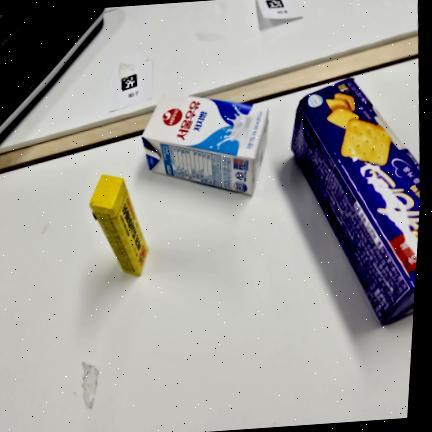cracker_ace: (291, 78, 420, 323)
gum_yellow: (89, 174, 148, 275)
milk_blue: (141, 94, 268, 195)
